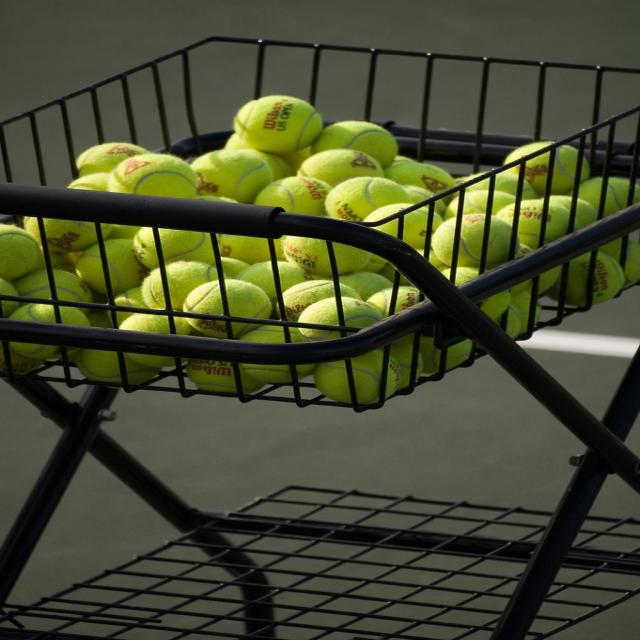Tennis ball: (0, 96, 639, 404)
